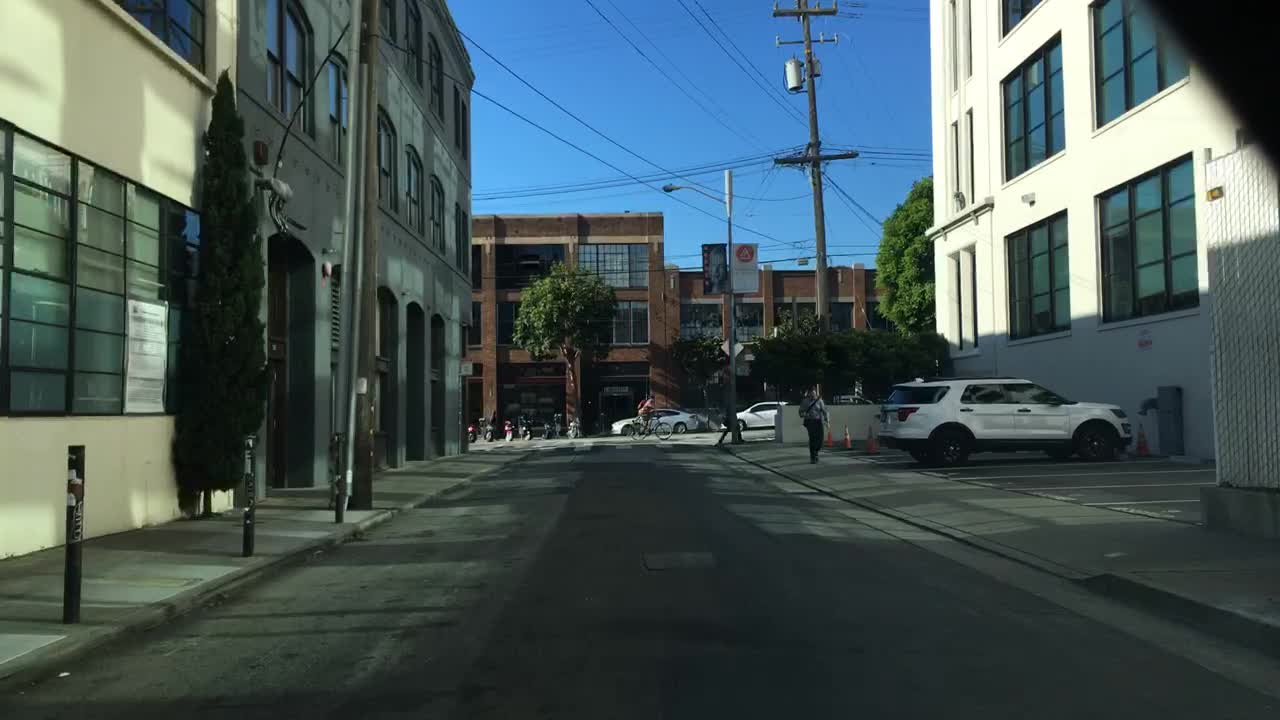bike: (628, 416, 672, 441)
car: (875, 376, 1132, 466), (608, 406, 697, 436), (717, 401, 798, 431), (822, 394, 874, 405)
motor: (480, 416, 496, 442), (516, 415, 532, 440), (540, 414, 555, 439), (501, 419, 516, 441), (567, 415, 581, 436), (466, 425, 476, 441)
person: (798, 389, 828, 466), (713, 398, 742, 446)
rider: (635, 396, 658, 435)
traffic sign: (731, 244, 757, 294), (721, 295, 731, 341), (459, 356, 474, 375)
